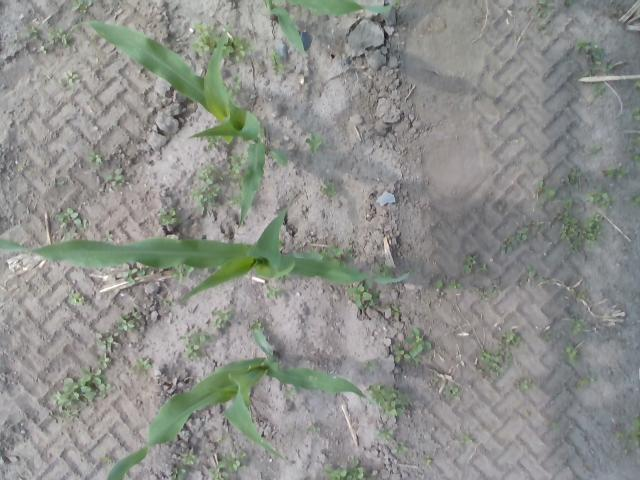Maize: (67, 21, 288, 230), (0, 194, 412, 305), (105, 327, 378, 480), (264, 0, 398, 57)
Weeds: (50, 307, 141, 421), (176, 308, 235, 358), (186, 158, 224, 218), (555, 208, 603, 254), (12, 24, 68, 55), (576, 38, 620, 76), (390, 325, 432, 364), (499, 220, 545, 255), (366, 384, 413, 417), (208, 450, 248, 480), (57, 207, 89, 243), (478, 348, 514, 380), (322, 458, 374, 480), (526, 0, 554, 37), (191, 20, 216, 57), (348, 282, 381, 310), (224, 36, 254, 62), (321, 244, 354, 266), (585, 185, 614, 210), (470, 278, 502, 300), (227, 151, 246, 188), (463, 253, 491, 276), (120, 264, 147, 285), (106, 168, 131, 189), (158, 209, 183, 230), (435, 278, 463, 296), (58, 70, 82, 90), (602, 164, 630, 180), (536, 178, 558, 198), (561, 168, 583, 188), (306, 132, 324, 156), (270, 46, 284, 74), (172, 264, 195, 281), (499, 329, 522, 346), (627, 412, 640, 442), (85, 148, 106, 166), (320, 177, 338, 198), (370, 263, 395, 278), (226, 76, 241, 100), (68, 288, 86, 307), (71, 0, 95, 14), (574, 374, 596, 388), (566, 342, 580, 363), (134, 358, 152, 374), (570, 316, 586, 334), (169, 467, 190, 480), (591, 80, 606, 98), (266, 285, 284, 300), (514, 379, 534, 392), (207, 136, 222, 153), (376, 426, 394, 440), (210, 430, 229, 442), (180, 452, 197, 464), (363, 360, 377, 374), (562, 194, 576, 208), (391, 303, 404, 318), (306, 422, 322, 434), (395, 442, 409, 455), (282, 387, 298, 398), (444, 384, 459, 395), (99, 453, 115, 463), (54, 177, 67, 189), (460, 434, 474, 445), (161, 298, 176, 308), (250, 318, 262, 330), (628, 194, 640, 206), (42, 72, 52, 86), (102, 234, 115, 244), (527, 264, 536, 278), (542, 330, 552, 342), (575, 290, 587, 300), (590, 146, 602, 156), (632, 154, 640, 168), (630, 136, 640, 146), (552, 421, 562, 430), (519, 274, 528, 284), (230, 197, 241, 205), (632, 106, 638, 120), (430, 377, 439, 386), (498, 204, 508, 212), (524, 408, 532, 418), (564, 0, 574, 8), (424, 456, 432, 466), (539, 274, 547, 283), (18, 166, 26, 174), (633, 81, 640, 90), (616, 430, 623, 438), (300, 476, 309, 480), (310, 246, 316, 252), (279, 238, 283, 246)
